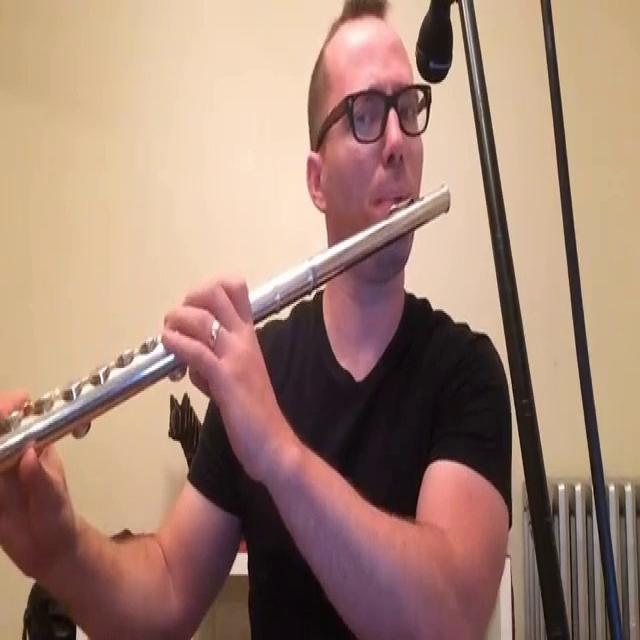Flute: (0, 166, 461, 480)
